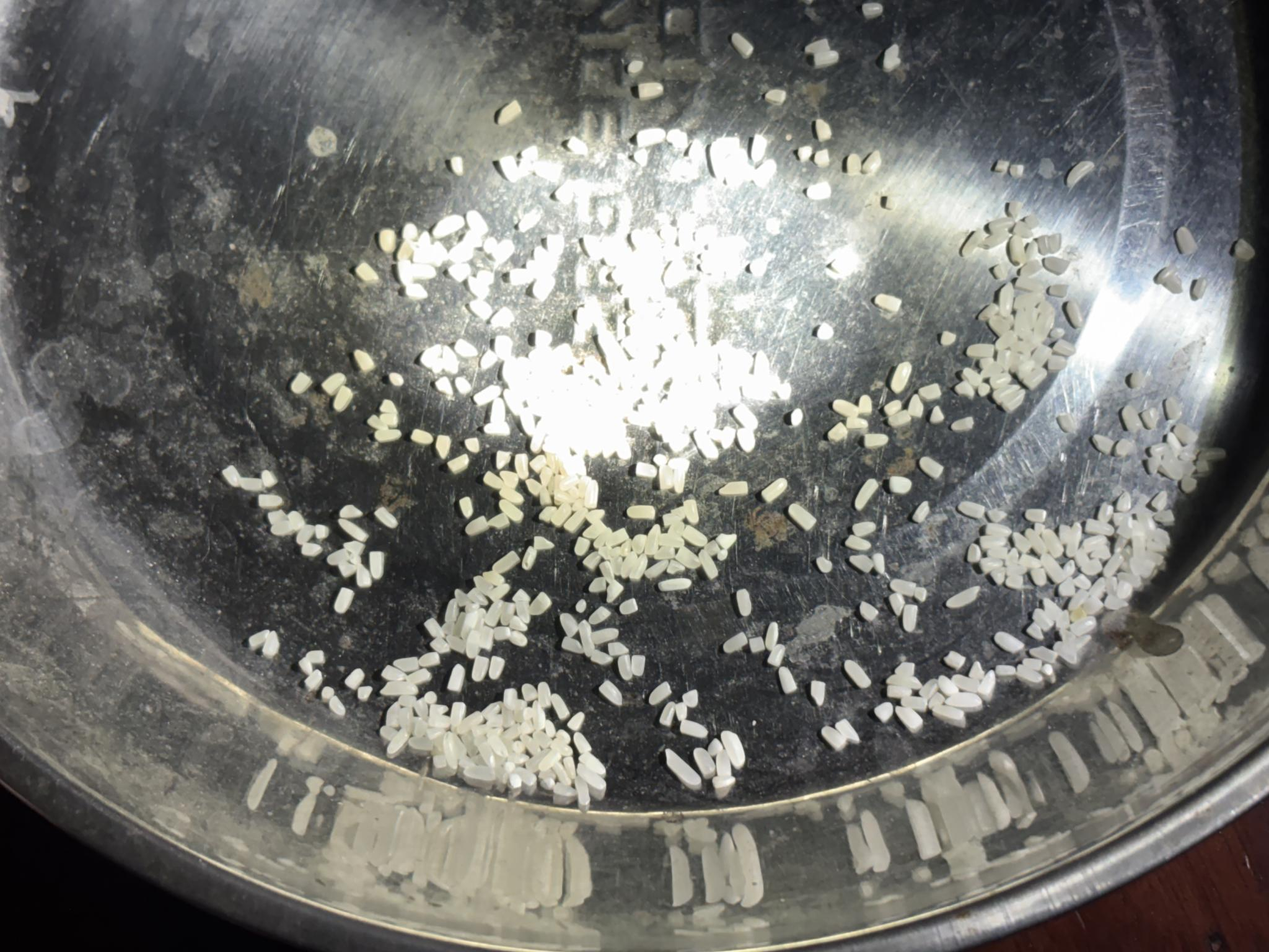Rice-th-y-nh: (593, 325, 635, 386), (525, 343, 564, 397), (663, 745, 704, 792), (671, 329, 704, 385), (499, 355, 534, 403), (705, 133, 741, 179), (578, 404, 608, 458), (1026, 301, 1059, 347), (448, 226, 484, 267), (569, 177, 598, 225), (721, 146, 753, 189), (718, 729, 750, 769), (673, 211, 702, 255), (599, 231, 631, 268), (611, 249, 643, 286), (665, 454, 693, 494), (660, 257, 692, 291), (554, 175, 588, 207), (432, 210, 465, 242), (644, 359, 674, 394), (690, 428, 721, 461), (693, 341, 722, 376), (574, 619, 599, 659), (1039, 552, 1070, 584), (660, 305, 690, 337), (945, 584, 981, 610), (576, 762, 607, 792), (787, 501, 817, 532), (1119, 404, 1148, 436), (691, 746, 718, 780), (894, 704, 924, 734), (635, 123, 666, 152), (844, 658, 872, 690), (497, 153, 525, 185), (853, 478, 879, 512), (888, 360, 914, 394), (550, 341, 579, 371), (731, 402, 759, 433), (582, 355, 610, 386), (337, 516, 369, 543), (994, 283, 1019, 317), (658, 572, 692, 597), (620, 279, 651, 306), (428, 731, 450, 769), (1039, 527, 1065, 559), (993, 629, 1025, 655), (1174, 226, 1200, 258), (1063, 522, 1086, 558), (511, 588, 534, 624), (444, 731, 469, 764), (473, 381, 503, 408), (500, 387, 526, 418), (608, 388, 634, 419), (528, 418, 551, 453), (1004, 234, 1029, 266), (761, 476, 788, 505), (641, 523, 664, 557), (563, 505, 589, 535), (560, 452, 590, 478), (580, 231, 606, 261), (437, 345, 462, 376), (386, 727, 411, 758), (696, 549, 721, 580), (747, 133, 771, 165), (498, 497, 525, 525), (463, 513, 491, 540), (491, 550, 521, 575), (626, 500, 657, 524), (835, 717, 861, 745), (820, 725, 848, 751), (579, 751, 607, 777), (874, 289, 902, 315), (734, 424, 758, 454), (951, 671, 981, 695), (445, 663, 469, 693), (516, 407, 539, 438), (675, 545, 702, 571), (918, 455, 945, 481), (465, 274, 491, 301), (468, 296, 494, 323), (470, 625, 496, 652), (1073, 548, 1098, 576), (1025, 528, 1049, 557), (469, 653, 492, 683), (898, 603, 921, 633), (394, 258, 417, 288), (366, 549, 388, 580), (761, 621, 783, 652), (693, 221, 719, 247), (722, 630, 749, 655), (648, 680, 673, 707), (507, 265, 535, 289), (259, 630, 282, 659), (482, 598, 505, 627), (776, 665, 799, 694), (590, 624, 619, 647), (889, 576, 918, 599), (332, 384, 355, 413), (378, 399, 401, 428), (462, 630, 483, 661), (665, 126, 691, 151), (373, 505, 399, 530), (806, 179, 832, 204), (667, 428, 692, 454), (603, 526, 630, 550), (1070, 614, 1097, 638), (987, 212, 1014, 236), (627, 554, 650, 582), (976, 670, 999, 698), (557, 610, 580, 638), (1015, 663, 1044, 685), (528, 701, 549, 731), (534, 680, 555, 710), (644, 557, 670, 581), (626, 407, 653, 430), (680, 498, 703, 525), (550, 501, 573, 528), (1102, 551, 1125, 578), (376, 227, 399, 254), (808, 679, 830, 707), (1029, 644, 1058, 665), (581, 479, 602, 508), (549, 692, 570, 721), (618, 550, 639, 579), (937, 674, 961, 699), (887, 407, 912, 431), (1091, 432, 1116, 456), (848, 552, 874, 575), (917, 380, 943, 403), (1030, 343, 1053, 369), (862, 429, 889, 451), (511, 452, 532, 480), (900, 693, 928, 714), (1116, 569, 1144, 590), (656, 463, 677, 491), (483, 418, 511, 439), (983, 520, 1012, 540), (1066, 588, 1090, 612), (634, 458, 658, 482), (627, 652, 649, 678), (486, 654, 507, 681), (406, 666, 433, 687), (498, 485, 525, 506), (844, 533, 872, 553), (657, 531, 685, 551), (978, 531, 1006, 551), (995, 329, 1019, 352), (538, 748, 561, 772), (445, 633, 469, 656), (404, 280, 428, 303), (423, 616, 446, 640), (448, 260, 472, 283), (589, 646, 613, 669), (447, 452, 471, 475), (873, 701, 897, 724), (353, 348, 376, 372), (716, 425, 738, 450), (353, 563, 375, 588), (572, 731, 594, 756), (1041, 597, 1063, 622), (513, 766, 538, 788), (433, 434, 454, 460), (551, 761, 572, 787), (886, 591, 907, 617), (615, 654, 635, 681), (658, 701, 678, 728), (604, 549, 624, 576), (1165, 432, 1184, 460), (498, 468, 521, 491), (1031, 608, 1053, 632), (960, 366, 984, 388), (566, 135, 590, 157), (766, 643, 787, 668), (1011, 530, 1032, 555), (905, 394, 926, 419), (604, 579, 625, 604), (951, 414, 976, 435), (813, 117, 834, 142), (520, 545, 540, 571), (886, 681, 912, 701), (247, 628, 270, 650), (550, 736, 573, 758), (467, 585, 489, 608), (858, 600, 880, 623), (653, 543, 677, 564), (452, 610, 470, 638), (614, 436, 634, 461), (1103, 593, 1129, 612), (338, 502, 364, 521), (561, 755, 579, 782), (344, 668, 366, 690), (481, 699, 503, 721), (336, 558, 358, 580), (482, 470, 505, 491), (598, 373, 621, 394), (572, 535, 593, 558), (1057, 576, 1078, 599), (592, 528, 613, 551), (911, 500, 931, 524), (1087, 576, 1107, 600), (531, 534, 555, 554), (417, 650, 441, 670), (1024, 506, 1048, 526), (295, 523, 315, 547), (442, 598, 461, 623), (409, 734, 434, 753), (844, 415, 870, 433), (918, 678, 939, 700), (434, 376, 455, 398), (618, 596, 640, 617), (478, 348, 498, 371), (1096, 501, 1116, 524), (606, 639, 629, 659), (521, 733, 541, 756), (597, 560, 617, 583), (988, 369, 1011, 389), (715, 531, 738, 551), (430, 635, 451, 656), (452, 588, 473, 609), (532, 328, 553, 349), (567, 710, 586, 733), (501, 687, 520, 710), (304, 669, 323, 692), (457, 496, 476, 519), (300, 540, 323, 559), (557, 472, 580, 491), (582, 550, 602, 571), (508, 614, 529, 634), (588, 575, 609, 595), (954, 379, 975, 399), (492, 622, 512, 643), (1054, 609, 1073, 631), (747, 633, 766, 655), (493, 448, 512, 470), (411, 716, 430, 738), (453, 374, 472, 396), (968, 660, 986, 683), (661, 510, 684, 528), (657, 295, 680, 313), (995, 348, 1012, 372), (482, 569, 506, 586), (571, 363, 591, 383), (532, 729, 552, 749), (856, 394, 875, 415), (520, 682, 539, 703), (1029, 566, 1048, 587), (965, 543, 984, 564), (584, 507, 605, 526), (481, 235, 500, 256), (328, 695, 346, 717), (396, 706, 413, 729), (506, 751, 529, 768), (512, 699, 528, 723), (524, 477, 543, 497), (499, 708, 518, 728), (883, 398, 902, 418), (529, 453, 547, 474), (990, 565, 1008, 586), (537, 466, 554, 488), (413, 698, 430, 720), (1021, 655, 1043, 672), (987, 544, 1010, 560), (297, 657, 315, 677), (706, 737, 724, 757), (1003, 548, 1021, 568), (775, 381, 793, 401), (1072, 573, 1092, 591), (1113, 510, 1134, 527), (929, 404, 946, 425), (673, 700, 689, 722), (427, 701, 449, 717), (1026, 623, 1045, 641), (260, 469, 278, 488), (542, 718, 558, 739), (537, 486, 553, 507), (619, 537, 635, 558), (538, 775, 557, 792), (796, 144, 813, 162), (789, 408, 805, 427), (398, 693, 418, 708), (314, 522, 330, 540), (462, 602, 481, 616), (423, 690, 439, 706), (976, 380, 990, 398)
